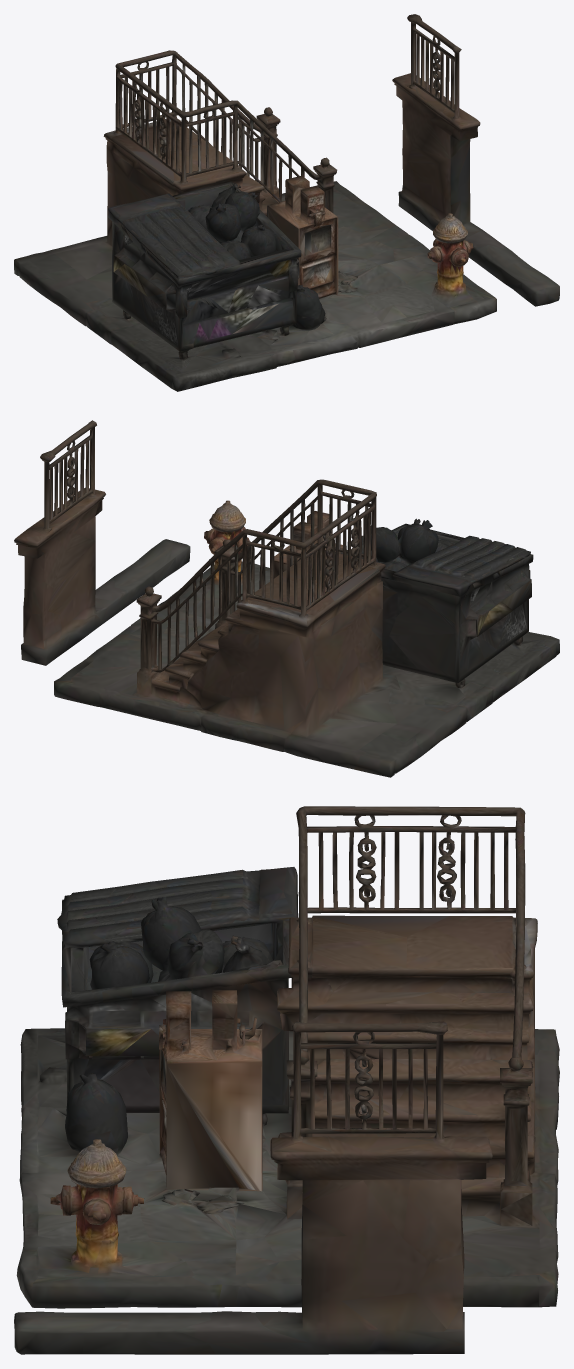
File: dumpster-build46.glb
3 renders of one model, top to bottom at view 1: azimuth 30°, elevation 25°; view 2: azimuth 150°, elevation 25°; view 3: azimuth 270°, elevation 25°, orthographic. The views are drawn at different scales.
Visible parts, largest first — view 1: dumpster; view 2: dumpster; view 3: dumpster.
Part boxes in pixels (x1,y1,x2,y2): dumpster: [14, 14, 559, 391]; dumpster: [14, 420, 559, 777]; dumpster: [14, 806, 559, 1354].
Bounding box in the file's own units: 2.06 × 1 × 1.55.
1 material, 1 textured.
